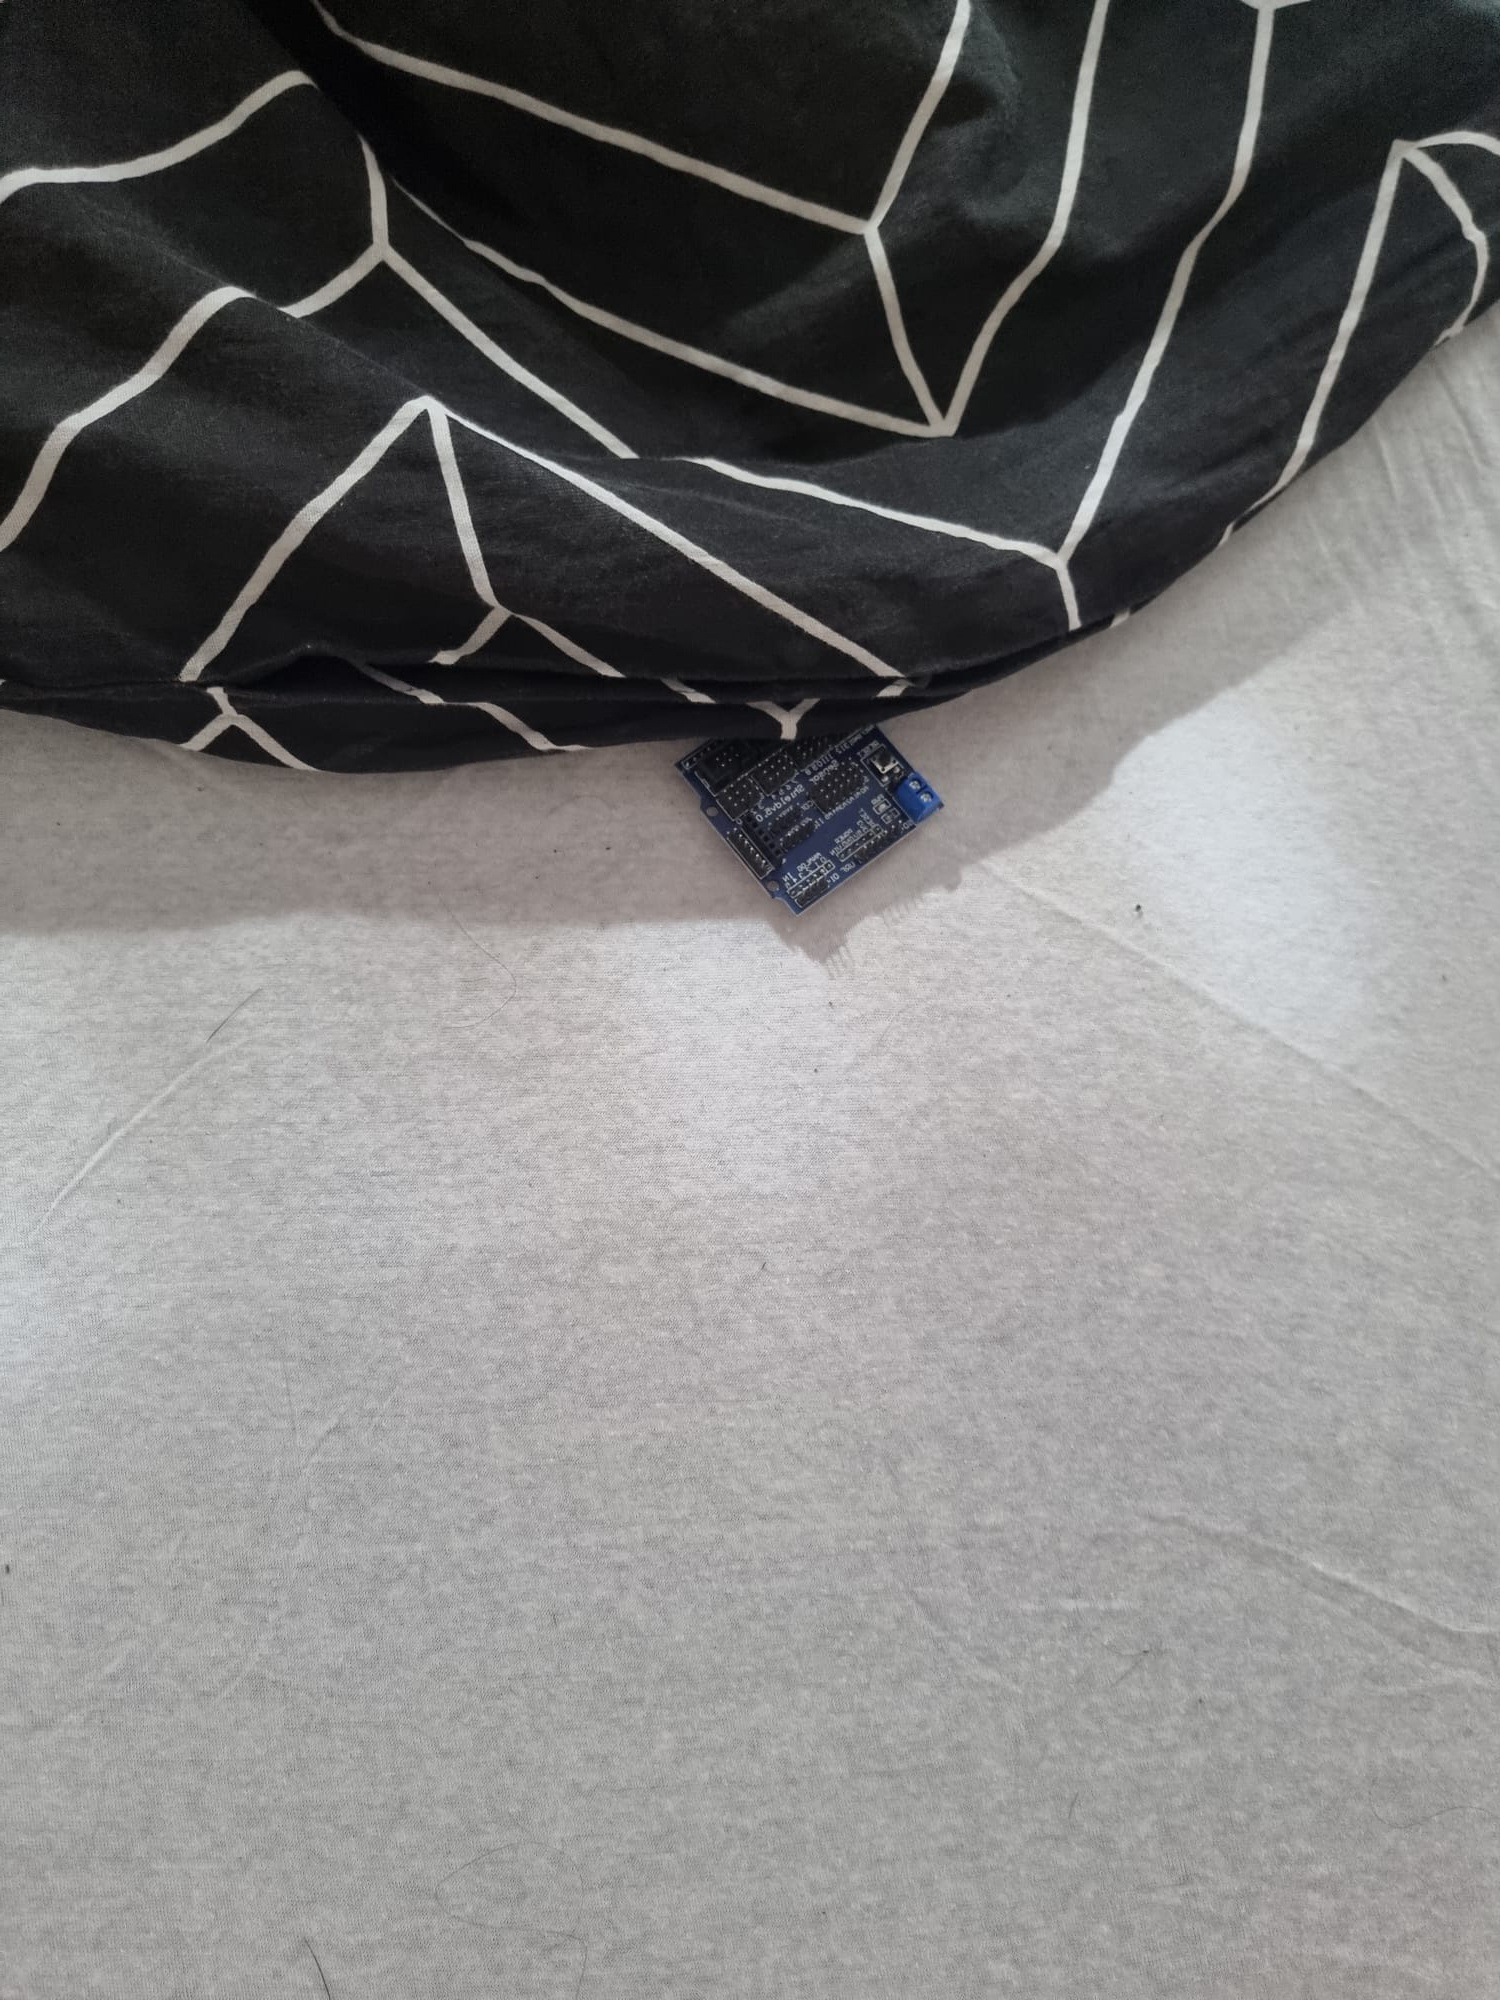5V EXPANSION: (670, 682, 945, 935)
